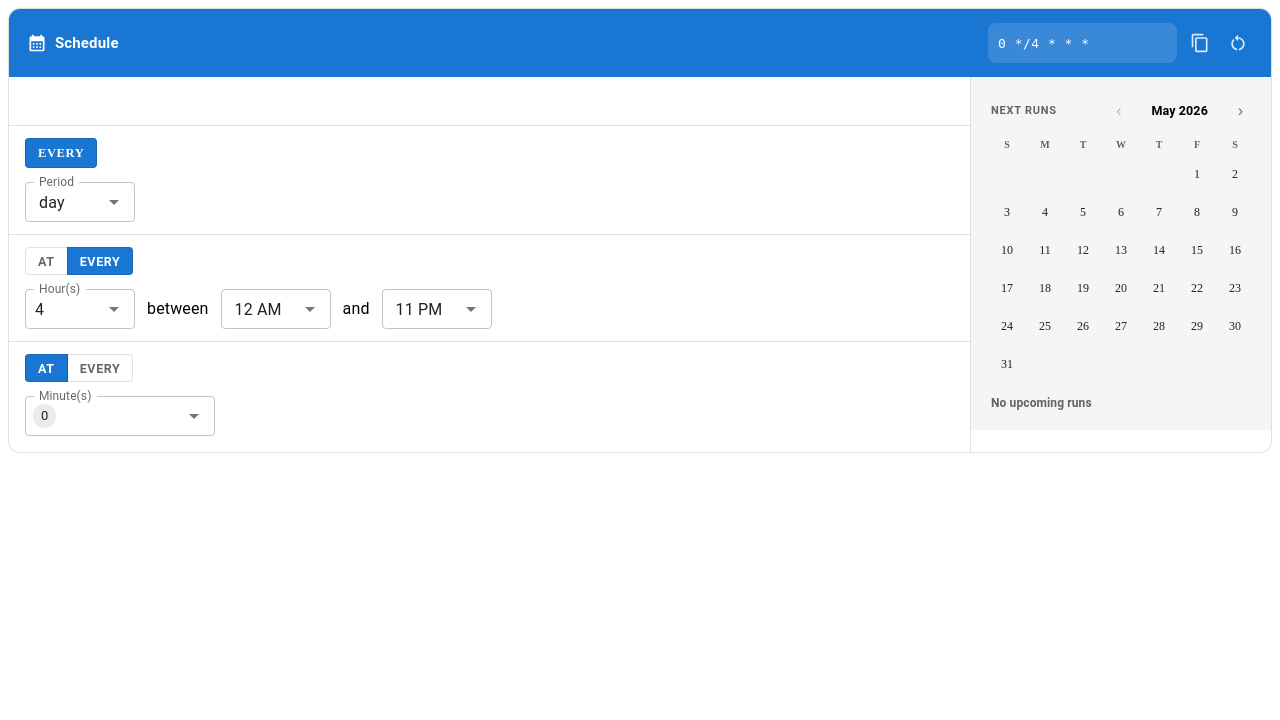
Scheduler (browser) › closes a time-range autocomplete after selecting an option (#16)
Click the 1st dropdown showing "12 AM" at (259, 309), box [227, 295, 292, 323]
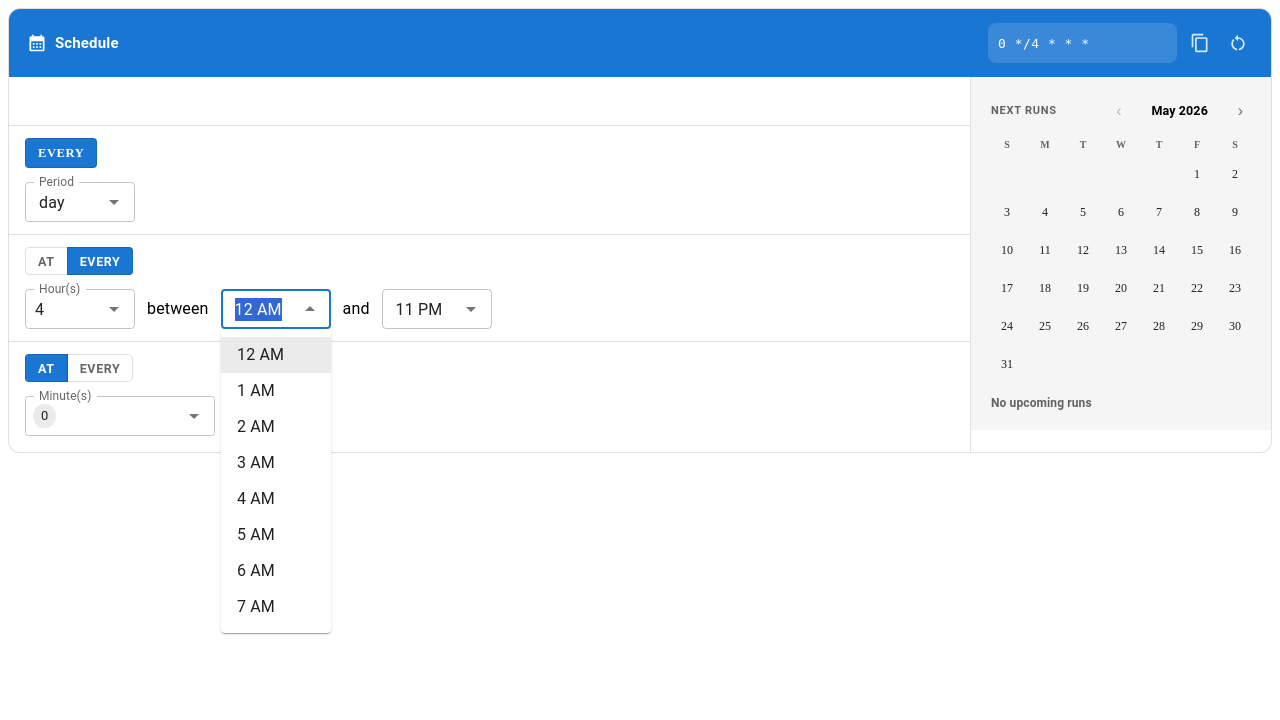
Click the option "2 AM" at (256, 426), box [237, 417, 275, 436]
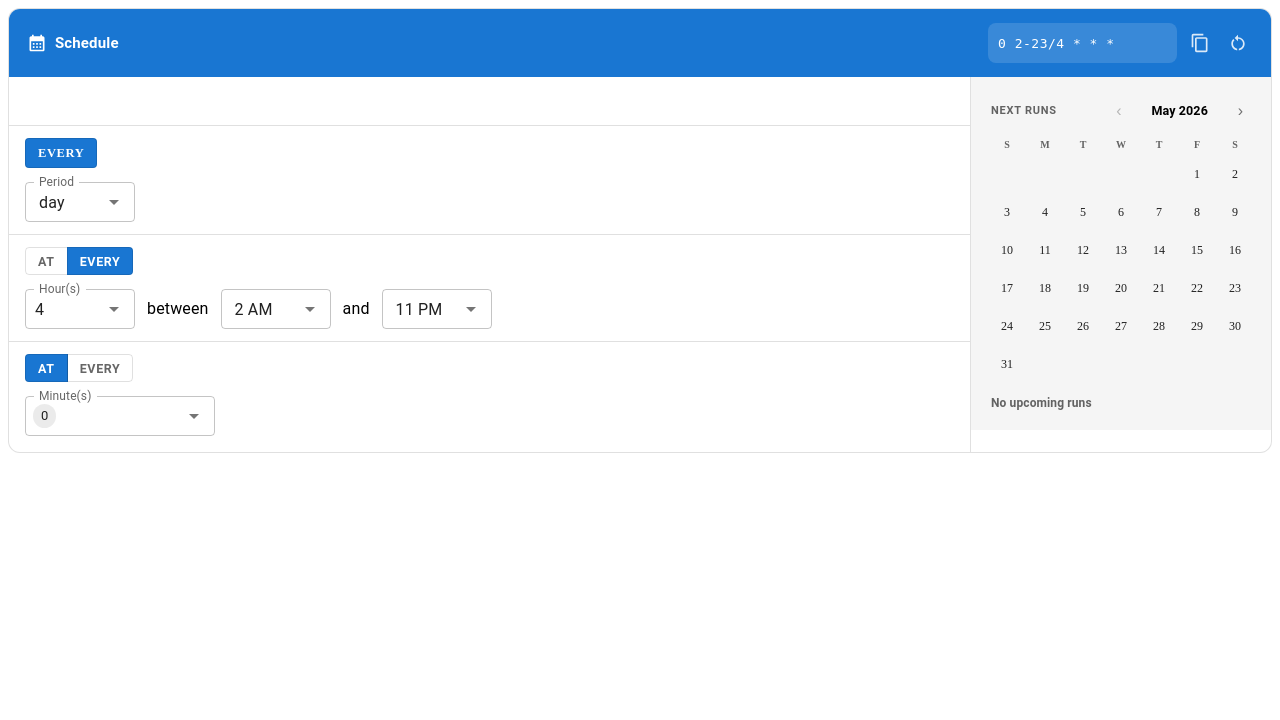
expect the 1st dropdown showing "2 AM" is shown: met, box [227, 295, 292, 323]
expect the list is gone: met
